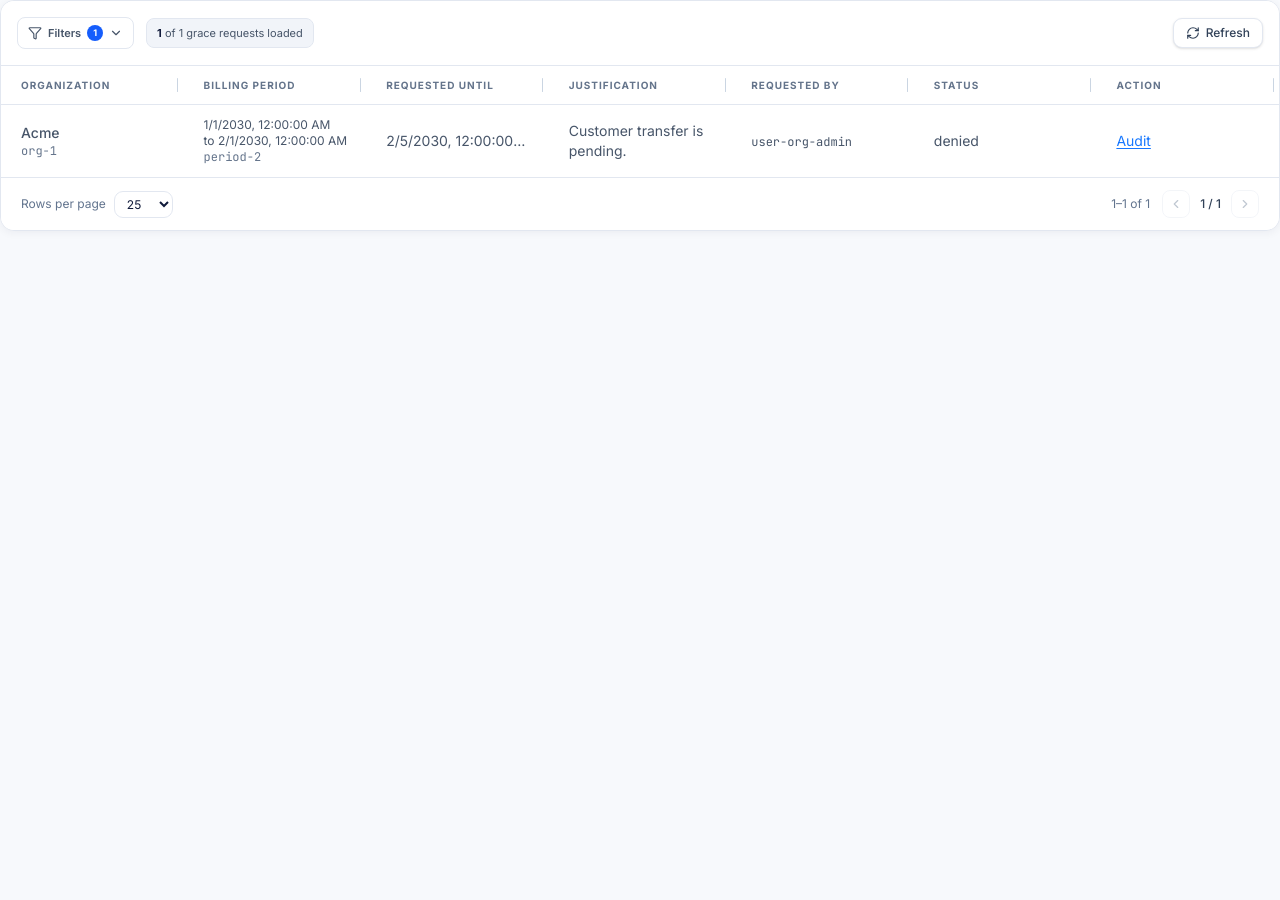
Test case: platform subscription grace queue › shows decision actor and reason in request audit history
Step 1. Click the button "Audit" → (1134, 141), box [1116, 131, 1151, 151]
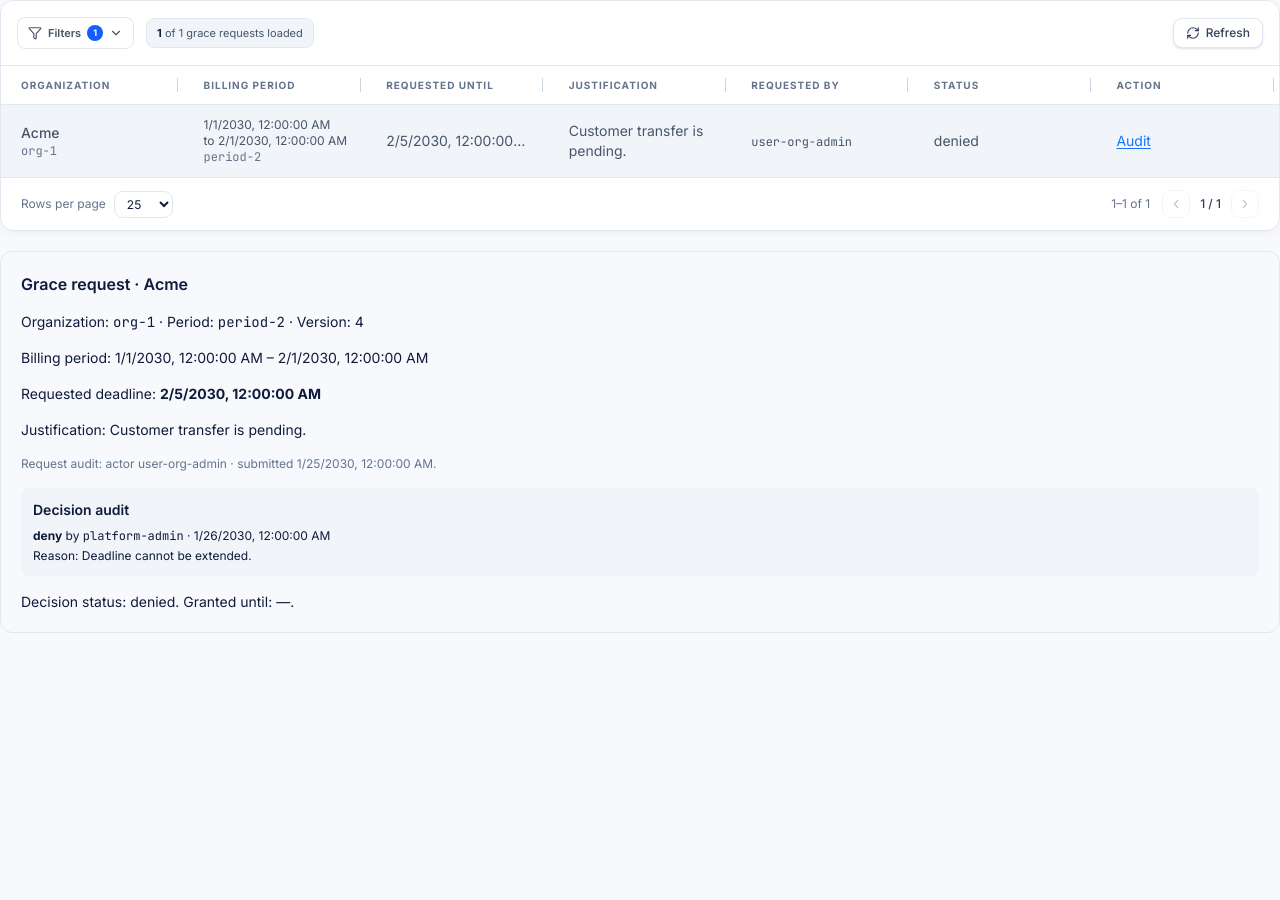
Now the text "Reason: Deadline cannot be extended." is shown, box [33, 548, 252, 563]
